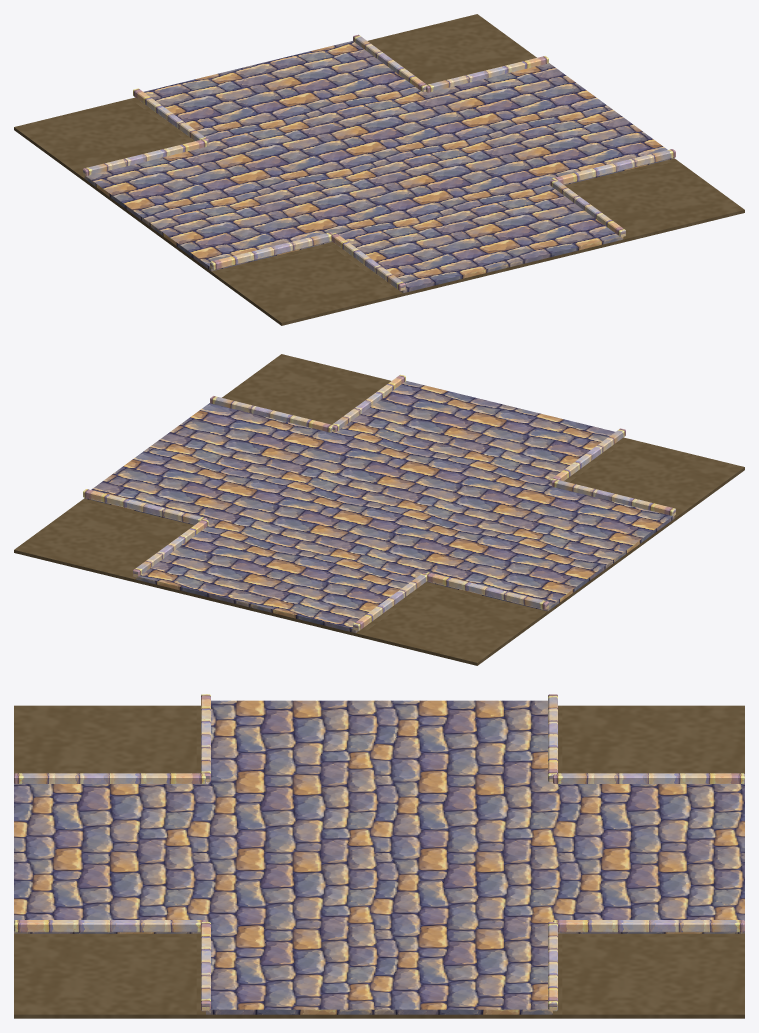
The model's file is Road_Cross.fbx.
The picture shows the model from 3 angles, top to bottom: view 1: azimuth 30°, elevation 25°; view 2: azimuth 150°, elevation 25°; view 3: azimuth 270°, elevation 25°; orthographic projection. The views are drawn at different scales.
Visible parts, largest first — view 1: Single joined paving outline, Road substrate, Low paving curb.006, Low paving curb.001, Low paving curb.005, Low paving curb.002, Low paving curb.007, Low paving curb.004, Low paving curb, Low paving curb.003; view 2: Single joined paving outline, Road substrate, Low paving curb.005, Low paving curb.002, Low paving curb.006, Low paving curb.001, Low paving curb.004, Low paving curb.007, Low paving curb.003, Low paving curb; view 3: Single joined paving outline, Road substrate, Low paving curb.003, Low paving curb, Low paving curb.007, Low paving curb.004, Low paving curb.001, Low paving curb.002, Low paving curb.005, Low paving curb.006.
Boxes of the visible parts, x1,y1,x2,y2 form: Single joined paving outline: (84,41,674,293); Road substrate: (14,14,744,325); Low paving curb.006: (210,232,332,270); Low paving curb.001: (551,149,675,184); Low paving curb.005: (83,139,207,175); Low paving curb.002: (426,56,548,92); Low paving curb.007: (331,233,405,291); Low paving curb.004: (133,88,208,144); Low paving curb: (550,179,625,236); Low paving curb.003: (353,34,427,91); Single joined paving outline: (84,381,674,633); Road substrate: (14,354,744,665); Low paving curb.005: (426,572,548,610); Low paving curb.002: (83,489,207,524); Low paving curb.006: (551,479,675,516); Low paving curb.001: (210,396,333,432); Low paving curb.004: (353,573,427,631); Low paving curb.007: (550,428,625,484); Low paving curb.003: (133,519,208,576); Low paving curb: (332,374,405,431); Single joined paving outline: (14,700,744,1014); Road substrate: (14,705,744,1018); Low paving curb.003: (553,920,744,932); Low paving curb: (14,920,205,932); Low paving curb.007: (14,773,205,783); Low paving curb.004: (553,773,744,783); Low paving curb.001: (201,922,210,1011); Low paving curb.002: (548,922,557,1011); Low paving curb.005: (548,694,557,781); Low paving curb.006: (201,694,210,781).
Size of the model in its own units: 800 by 19.5 by 800.
